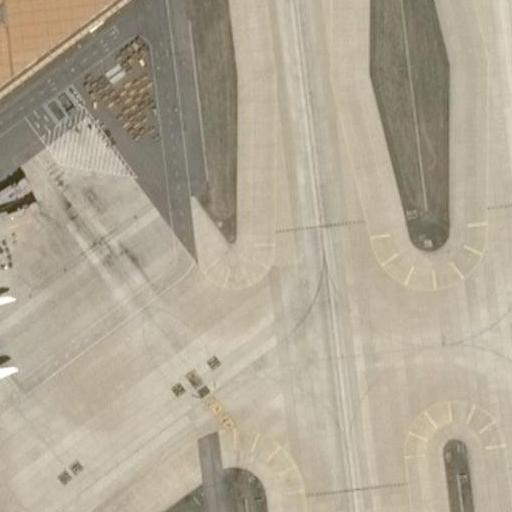Aircraft: (0, 252, 30, 411)
